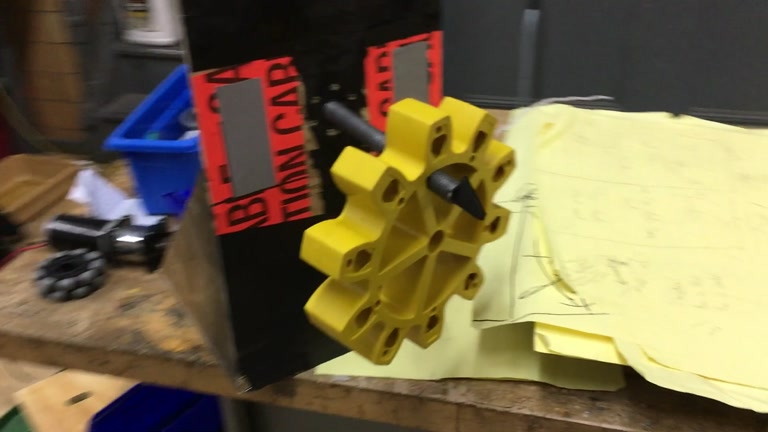gear: (300, 97, 517, 367)
